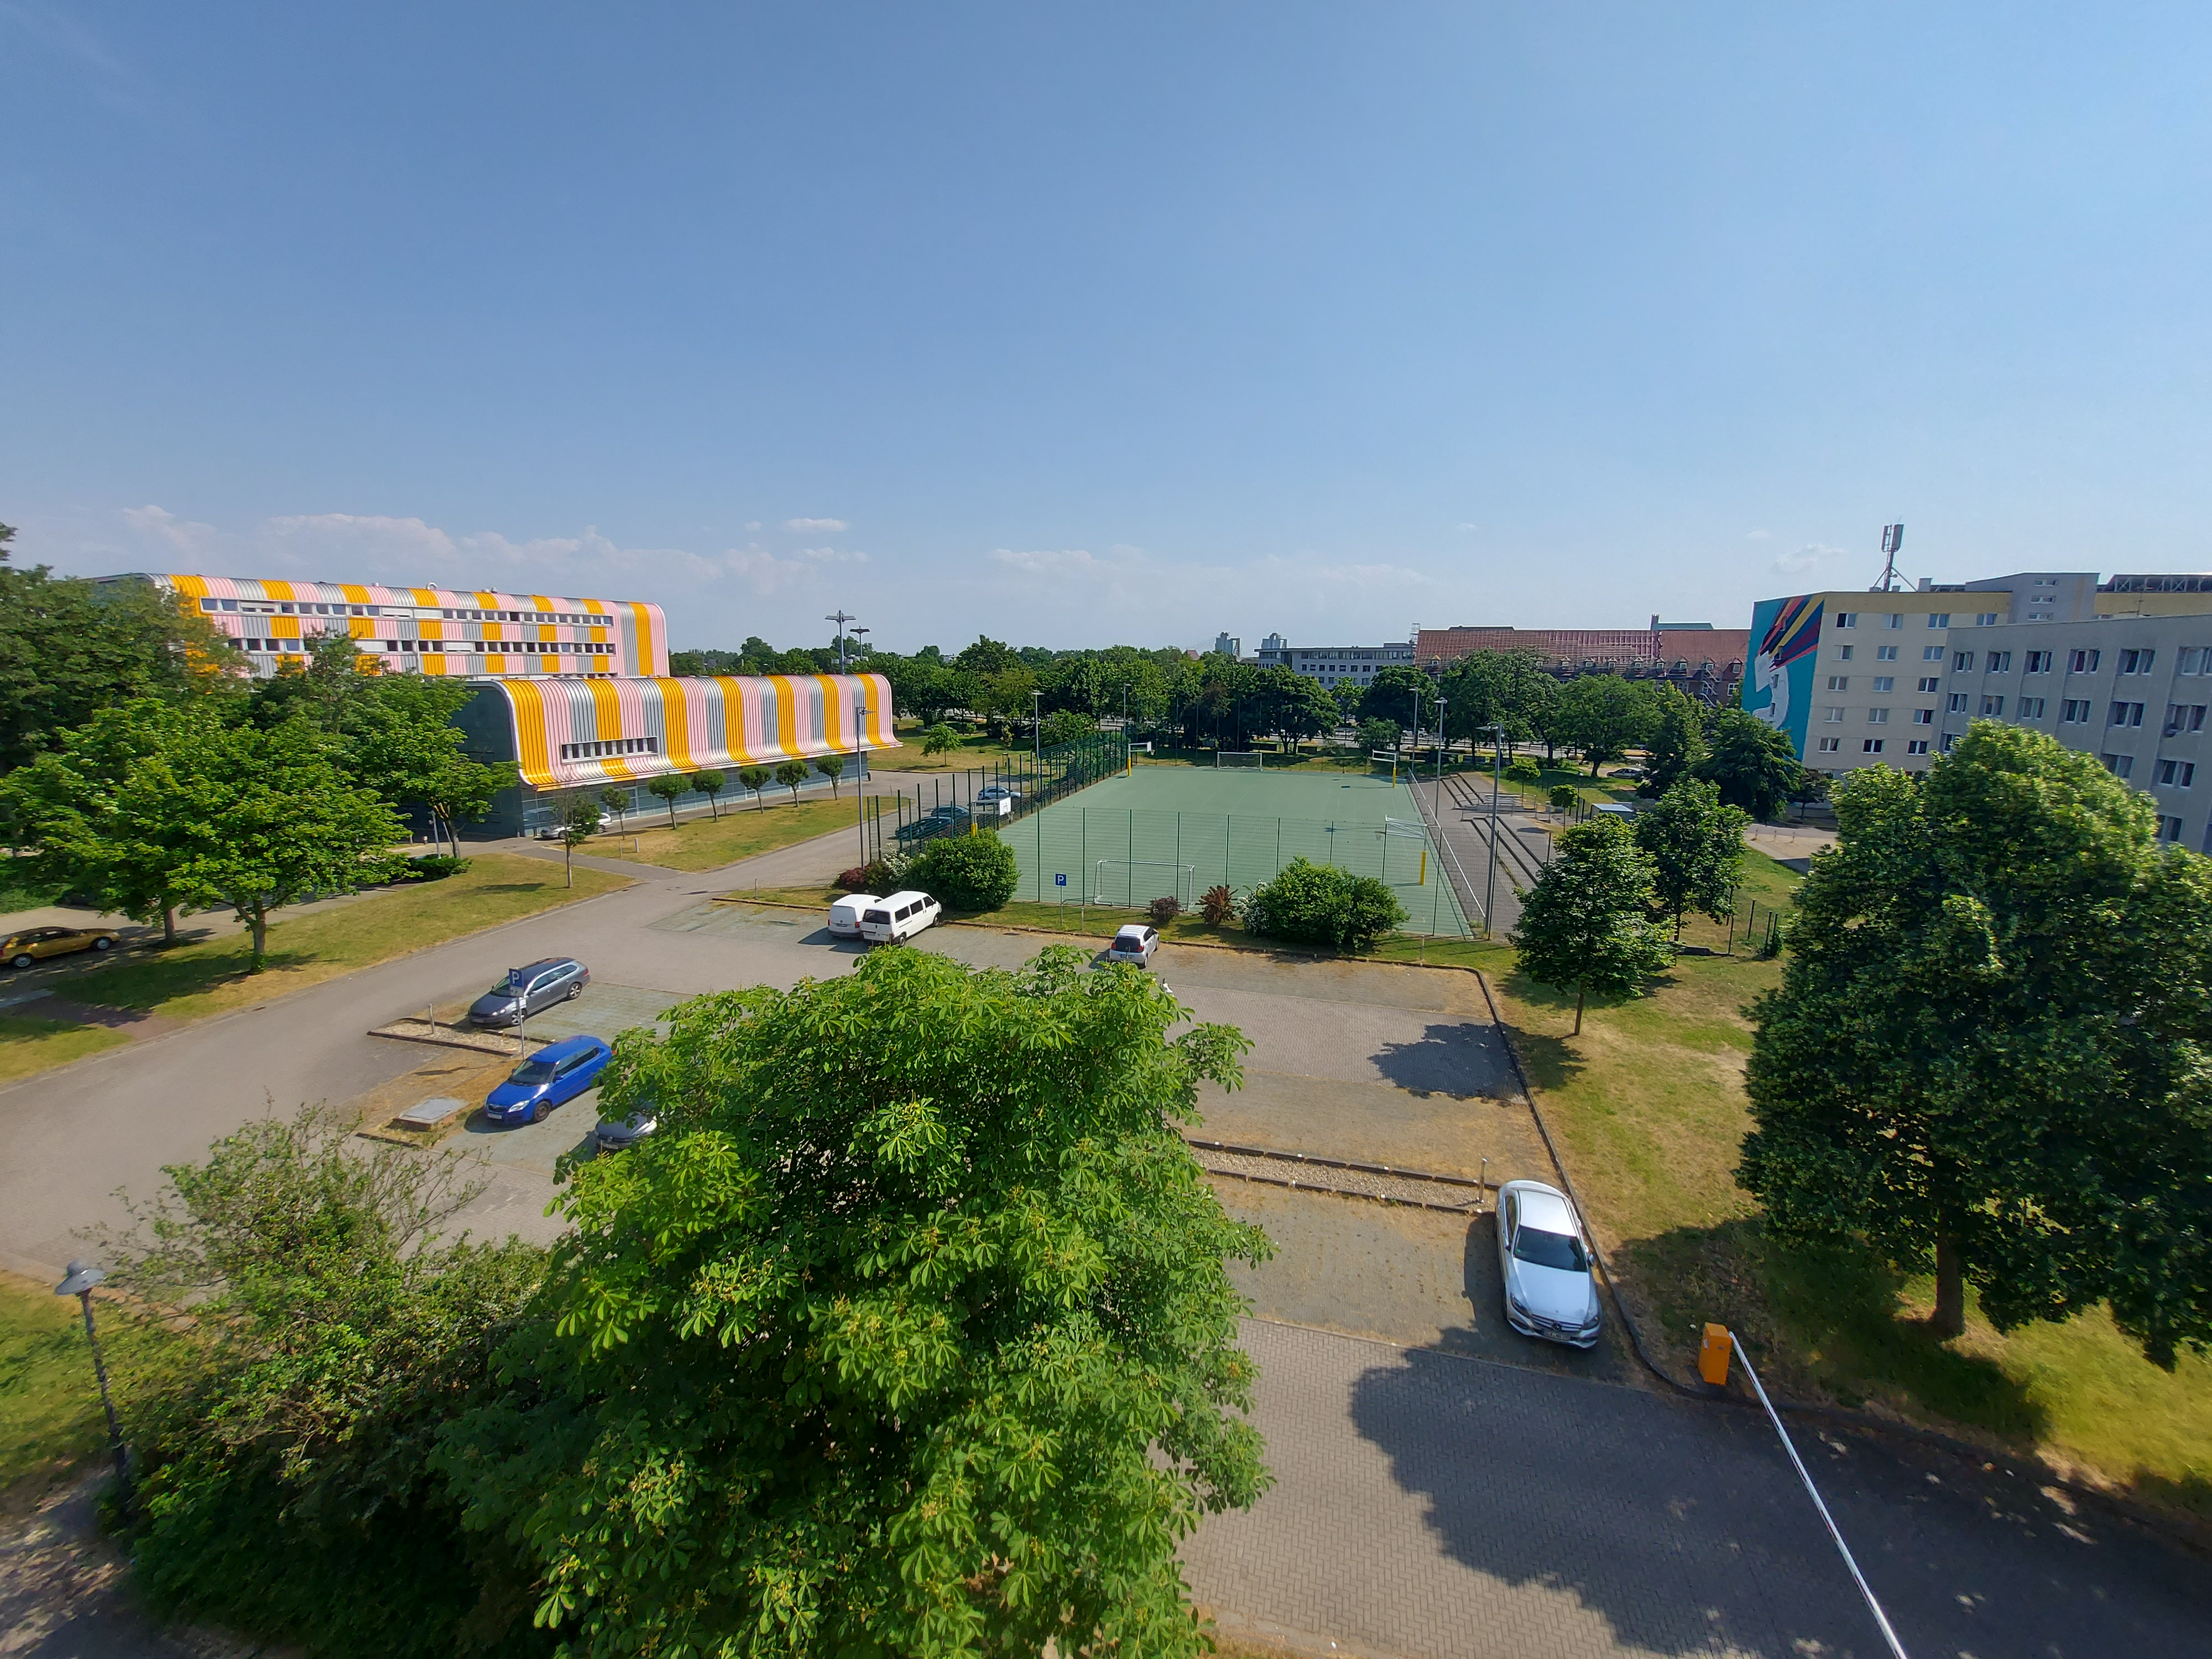spot: (1376, 1222, 1486, 1331), (1496, 1236, 1604, 1345), (467, 943, 575, 1053), (1258, 1204, 1367, 1312), (573, 951, 681, 1060), (470, 1053, 578, 1161), (577, 1065, 685, 1173), (1461, 1100, 1526, 1164), (1261, 1079, 1325, 1143), (1329, 1084, 1393, 1148), (738, 887, 803, 951), (937, 899, 1001, 962), (1160, 927, 1224, 990), (1226, 931, 1289, 995), (1393, 1094, 1458, 1157), (1195, 1073, 1259, 1136), (1423, 955, 1486, 1019), (1359, 951, 1423, 1014), (1292, 939, 1357, 1002), (1094, 917, 1158, 979), (1017, 913, 1080, 978), (805, 889, 869, 951), (665, 882, 728, 946), (867, 892, 930, 955)
